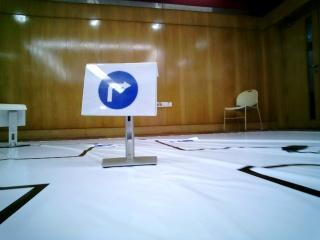right: (86, 66, 158, 117)
